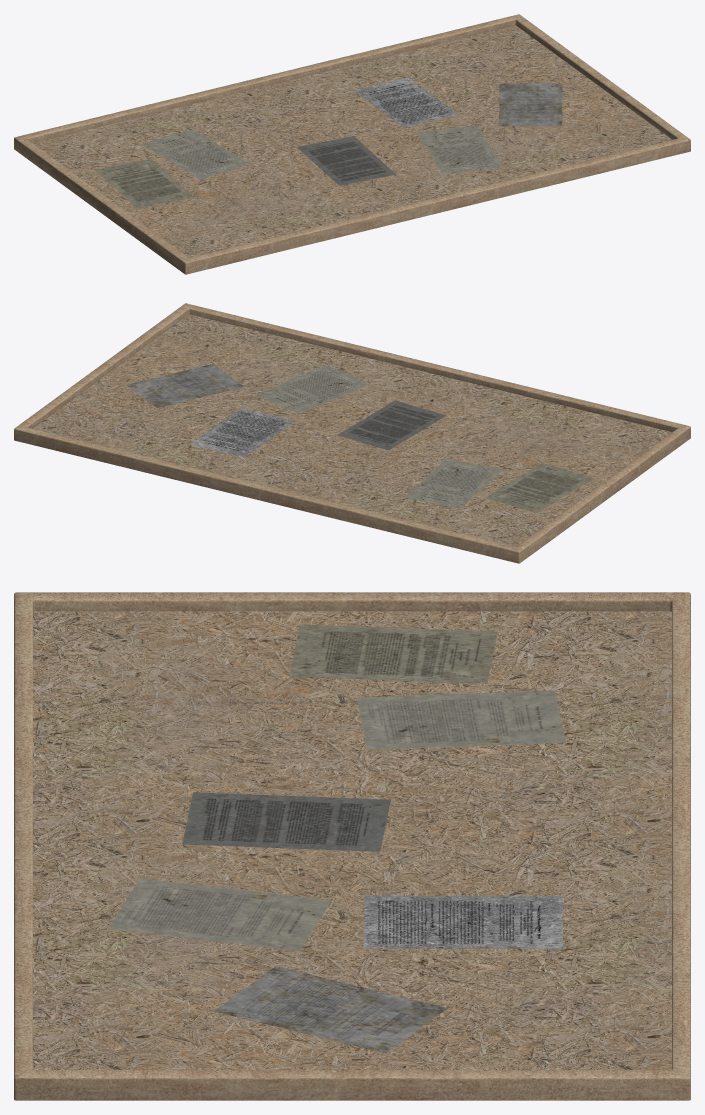
The model's file is Corkboard.FBX.
3 views of the same model, one above another, from view 1: azimuth 30°, elevation 25°; view 2: azimuth 150°, elevation 25°; view 3: azimuth 270°, elevation 25° (orthographic). The views are drawn at different scales.
Parts seen in each view (by area): view 1: Box050; view 2: Box050; view 3: Box050.
Part boxes in pixels (<box>): Box050: <box>14,14,690,274</box>; Box050: <box>14,303,690,563</box>; Box050: <box>14,592,690,1100</box>.
Size of the model in its own units: 1772 by 39.37 by 1043.
